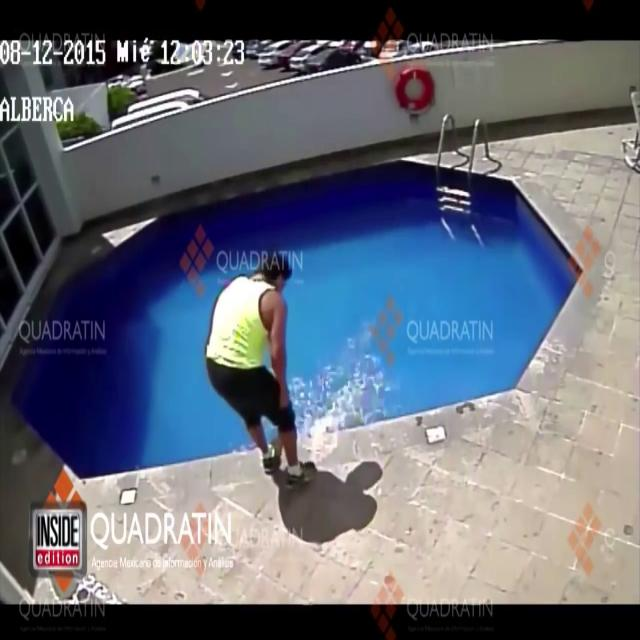adult: (204, 253, 319, 492)
